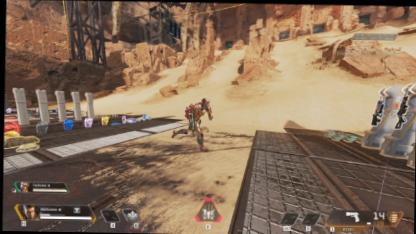Target: (177, 96, 217, 150)
